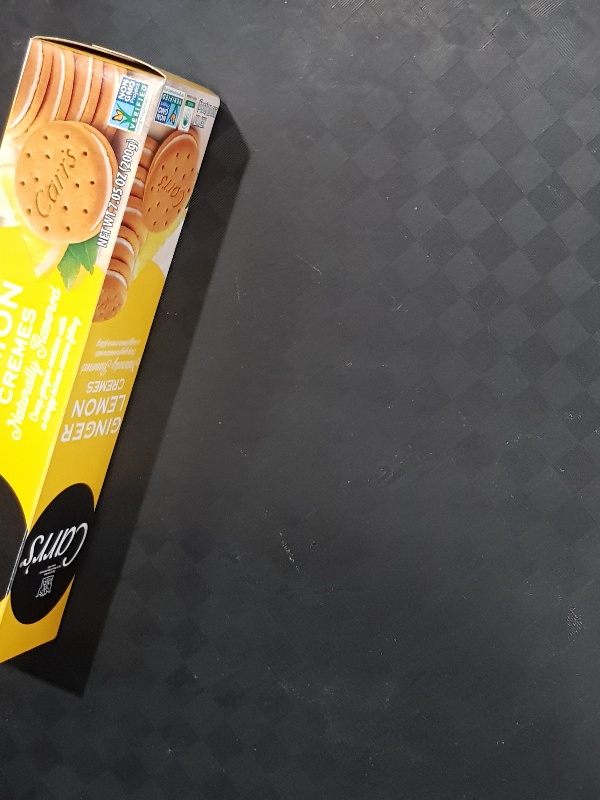Carr's Ginger Lemon Cremes: (2, 33, 219, 667)
